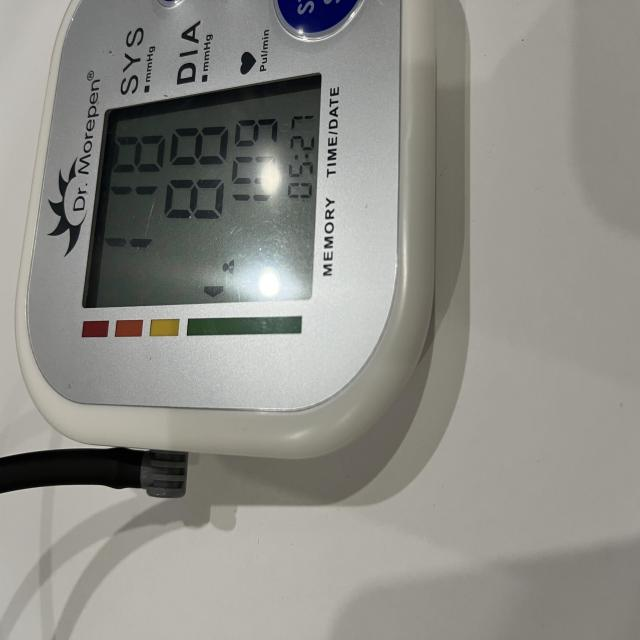bp: (7, 0, 470, 506)
